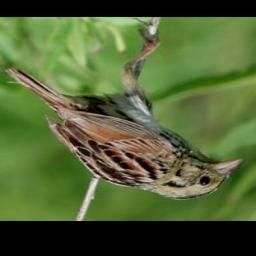Sparrow: (4, 30, 245, 202)
